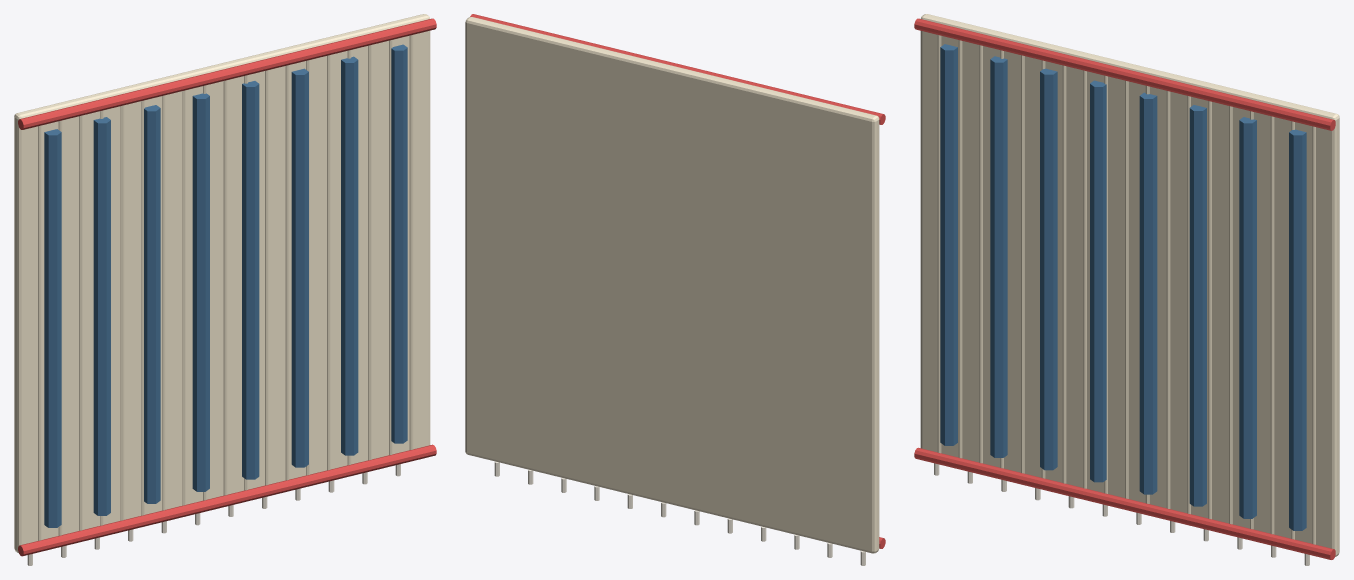
Rendered from wear_tenugui.glb.
The picture shows the model from 3 angles, left to right: view 1: azimuth 30°, elevation 25°; view 2: azimuth 150°, elevation 25°; view 3: azimuth 330°, elevation 25°; orthographic projection.
Visible parts, largest first — view 1: Traditional narrow tenuguicloth, Vertical indigo dyed stripe.005, Vertical indigo dyed stripe.003, Vertical indigo dyed stripe.004, Vertical indigo dyed stripe.006, Vertical indigo dyed stripe, Vertical indigo dyed stripe.001, Vertical indigo dyed stripe.007, Vertical indigo dyed stripe.002, Fine woven hemming.001, Fine woven hemming, Traditional narrow tenugui_stitch10 (+13 smaller); view 2: Traditional narrow tenuguicloth, Fine woven hemming.001; view 3: Traditional narrow tenuguicloth, Vertical indigo dyed stripe.004, Vertical indigo dyed stripe.002, Vertical indigo dyed stripe.005, Vertical indigo dyed stripe, Vertical indigo dyed stripe.006, Vertical indigo dyed stripe.007, Vertical indigo dyed stripe.001, Vertical indigo dyed stripe.003, Fine woven hemming.001, Fine woven hemming, Traditional narrow tenugui_stitch7 (+13 smaller).
Part boxes in pixels (box(x1,y1,x2,y2)): Traditional narrow tenuguicloth: box(14, 14, 430, 552); Vertical indigo dyed stripe.005: box(291, 68, 308, 467); Vertical indigo dyed stripe.003: box(192, 93, 209, 491); Vertical indigo dyed stripe.004: box(242, 81, 259, 479); Vertical indigo dyed stripe.006: box(341, 56, 358, 455); Vertical indigo dyed stripe: box(44, 129, 61, 527); Vertical indigo dyed stripe.001: box(93, 117, 110, 515); Vertical indigo dyed stripe.007: box(391, 44, 407, 443); Vertical indigo dyed stripe.002: box(144, 105, 160, 503); Fine woven hemming.001: box(18, 18, 436, 129); Fine woven hemming: box(18, 444, 436, 556); Traditional narrow tenugui_stitch10: box(223, 80, 227, 495); Traditional narrow tenuguicloth: box(465, 17, 879, 553); Fine woven hemming.001: box(470, 14, 885, 124); Traditional narrow tenuguicloth: box(920, 14, 1339, 556); Vertical indigo dyed stripe.004: box(1139, 92, 1157, 494); Vertical indigo dyed stripe.002: box(1040, 68, 1057, 470); Vertical indigo dyed stripe.005: box(1189, 105, 1206, 506); Vertical indigo dyed stripe: box(940, 44, 957, 445); Vertical indigo dyed stripe.006: box(1239, 117, 1256, 518); Vertical indigo dyed stripe.007: box(1289, 129, 1306, 530); Vertical indigo dyed stripe.001: box(990, 56, 1007, 457); Vertical indigo dyed stripe.003: box(1090, 80, 1106, 482); Fine woven hemming.001: box(914, 18, 1335, 130); Fine woven hemming: box(914, 447, 1335, 559); Traditional narrow tenugui_stitch7: box(1062, 65, 1066, 483).
Bounding box in the file's own units: 1.86 × 1.95 × 0.0962.
